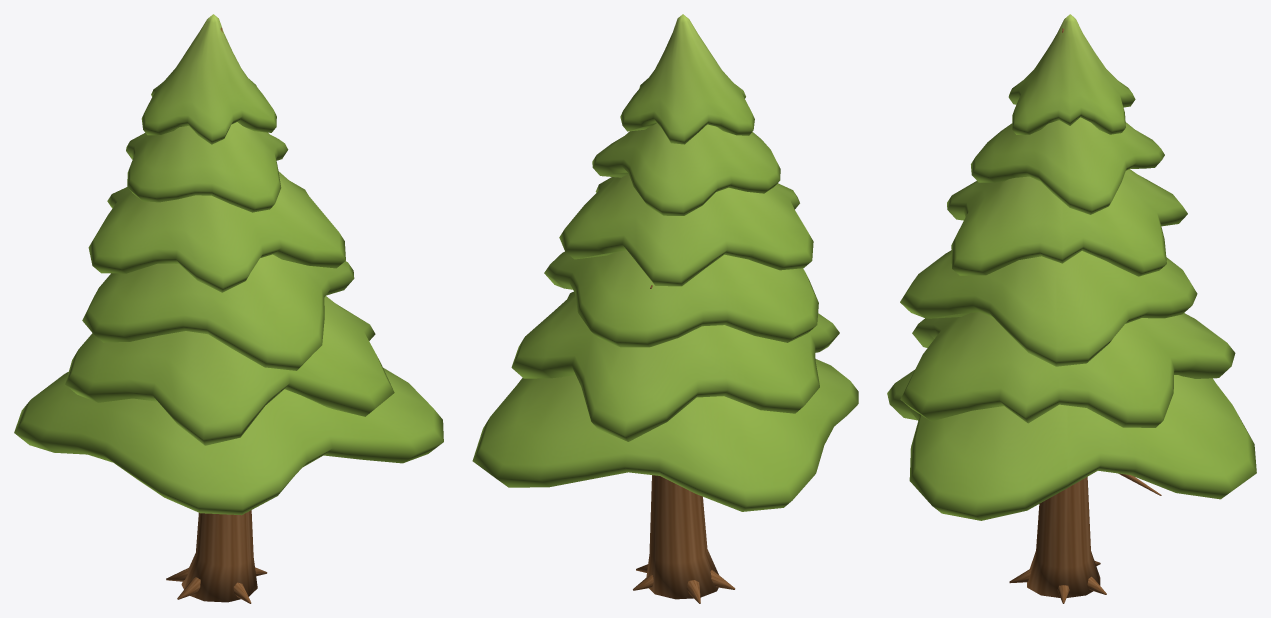
Rendered from SoftPine_v2_prefoundation.fbx.
The picture shows the model from 3 angles, left to right: view 1: azimuth 30°, elevation 25°; view 2: azimuth 150°, elevation 25°; view 3: azimuth 270°, elevation 25°; orthographic projection.
Visible parts, largest first — view 1: SM_SoftPine_Foliage_LOD0, SM_SoftPine_Bark_LOD0; view 2: SM_SoftPine_Foliage_LOD0, SM_SoftPine_Bark_LOD0; view 3: SM_SoftPine_Foliage_LOD0, SM_SoftPine_Bark_LOD0.
Boxes of the visible parts, x1=… form: SM_SoftPine_Foliage_LOD0: x1=14, y1=14, x2=443, y2=515; SM_SoftPine_Bark_LOD0: x1=166, y1=27, x2=267, y2=603; SM_SoftPine_Foliage_LOD0: x1=472, y1=14, x2=858, y2=511; SM_SoftPine_Bark_LOD0: x1=633, y1=285, x2=735, y2=603; SM_SoftPine_Foliage_LOD0: x1=887, y1=14, x2=1256, y2=520; SM_SoftPine_Bark_LOD0: x1=1009, y1=28, x2=1161, y2=603.
Size of what is drawn, in the model's own units: 5.19 by 8.44 by 4.99.
2 materials, 2 textured.
